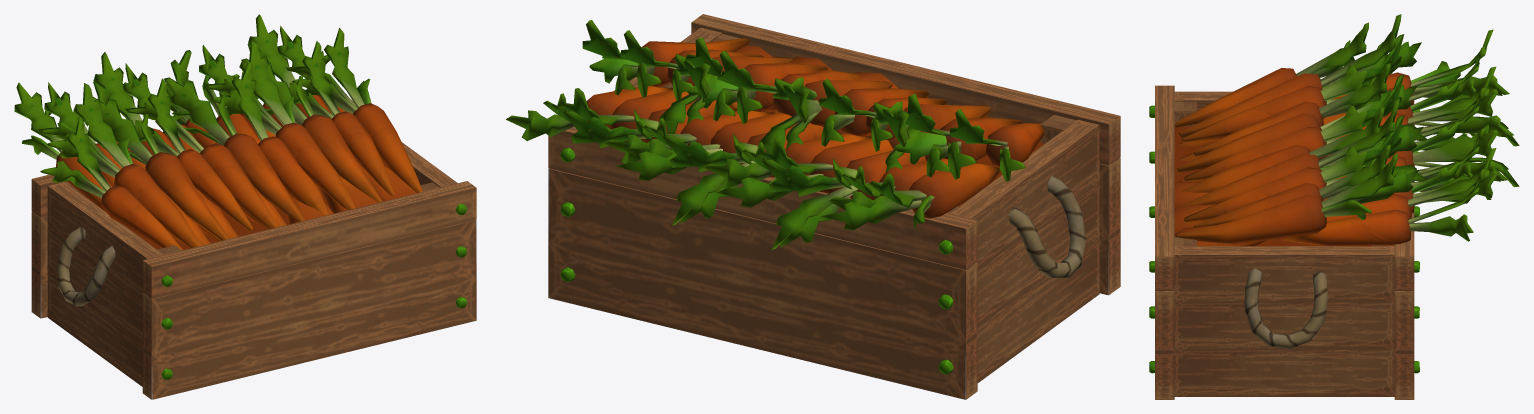
File: FarmCrate_Carrot.gltf
3 renders of one model, left to right at view 1: azimuth 30°, elevation 25°; view 2: azimuth 150°, elevation 25°; view 3: azimuth 270°, elevation 25°, orthographic. The views are drawn at different scales.
Visible parts, largest first — view 1: FarmCrate_Carrot; view 2: FarmCrate_Carrot; view 3: FarmCrate_Carrot.
Boxes of the visible parts, x1,y1,x2,y2 form: FarmCrate_Carrot: (14, 14, 476, 399); FarmCrate_Carrot: (506, 14, 1120, 399); FarmCrate_Carrot: (1149, 14, 1519, 399).
Bounding box in the file's own units: 0.7138 × 0.4113 × 0.567.
3 materials, 3 textured.
